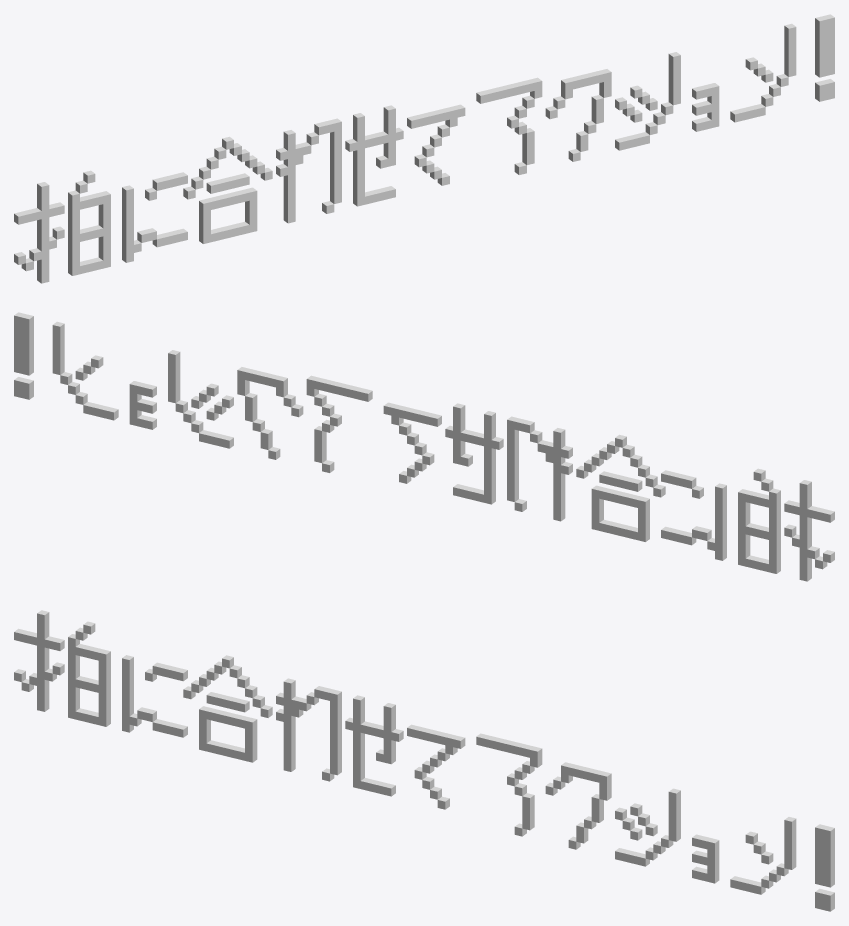
File: haku.obj
3 renders of one model, top to bottom at view 1: azimuth 30°, elevation 25°; view 2: azimuth 150°, elevation 25°; view 3: azimuth 330°, elevation 25°, orthographic.
Parts seen in each view (by area): view 1: Untitled; view 2: Untitled; view 3: Untitled.
Part boxes in pixels (left/top/right/bottom): Untitled: left=14, top=14, right=834, bottom=283; Untitled: left=14, top=312, right=834, bottom=581; Untitled: left=14, top=610, right=834, bottom=911.
Bounding box in the file's own units: 10.6 × 1.3 × 0.1.
Materials: 1 (1 with a texture image).
